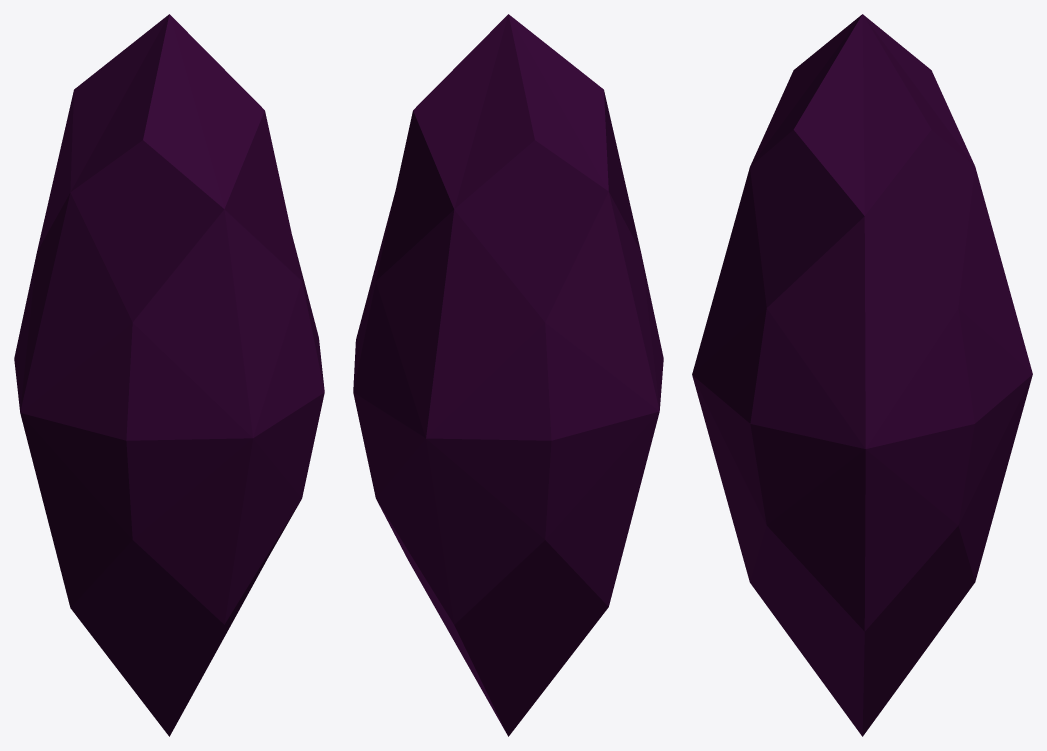
The model's file is Mana Stone3.fbx.
3 renders of one model, left to right at view 1: azimuth 30°, elevation 25°; view 2: azimuth 150°, elevation 25°; view 3: azimuth 270°, elevation 25°, orthographic.
Parts seen in each view (by area): view 1: Box001; view 2: Box001; view 3: Box001.
Boxes of the visible parts, <box> form: Box001: <box>14,14,324,736</box>; Box001: <box>353,14,663,736</box>; Box001: <box>692,14,1032,736</box>.
Size of the model in its own units: 11.37 by 26.06 by 11.14.
